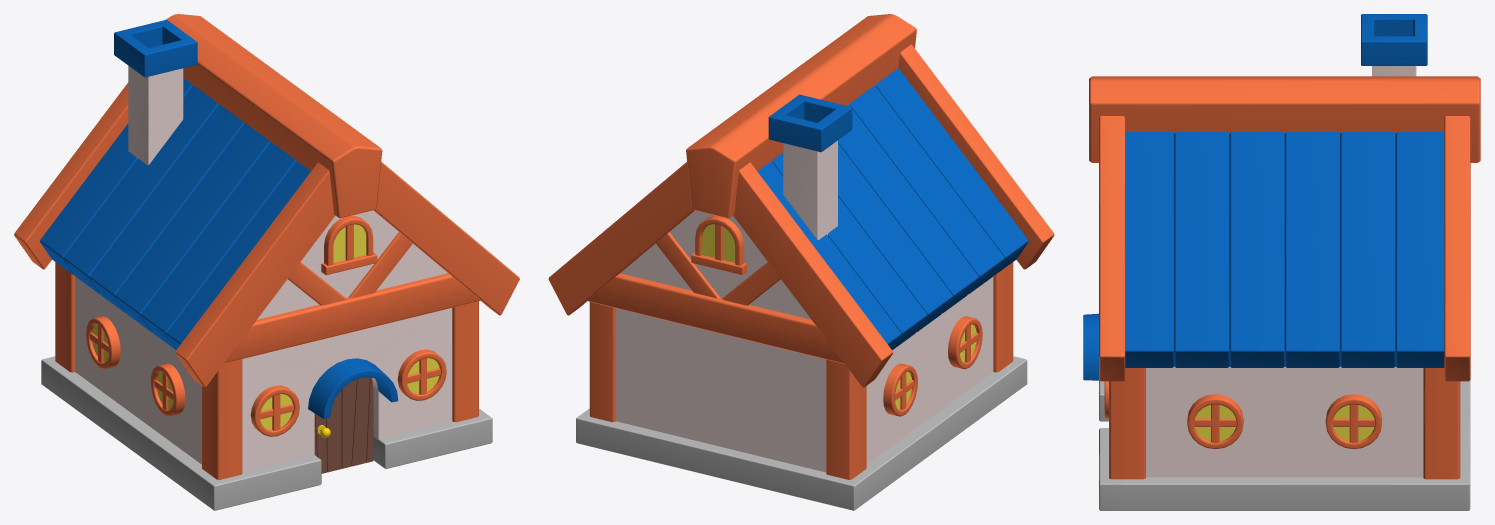
Rendered from Farm_14_House_1.glb.
3 views of the same model, side by side, from view 1: azimuth 30°, elevation 25°; view 2: azimuth 150°, elevation 25°; view 3: azimuth 270°, elevation 25° (orthographic). The views are drawn at different scales.
Parts seen in each view (by area): view 1: Farm_14_House_1; view 2: Farm_14_House_1; view 3: Farm_14_House_1.
Part boxes in pixels (x1,y1,x2,y2): Farm_14_House_1: [14, 14, 519, 510]; Farm_14_House_1: [548, 14, 1054, 510]; Farm_14_House_1: [1083, 14, 1480, 510].
Size of the model in its own units: 7.66 by 7.76 by 7.36.
1 material, 1 textured.
